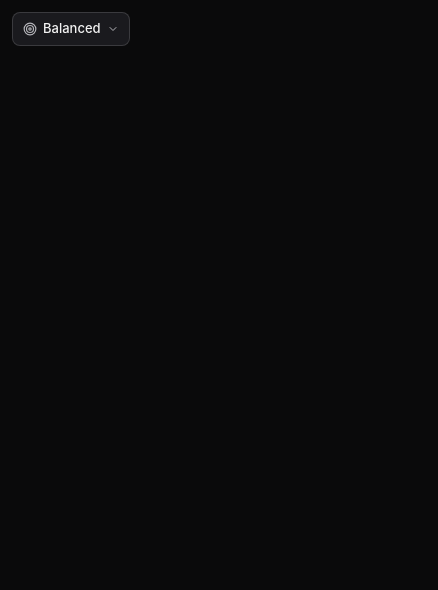
Test case: GoalPicker › keeps the pick drawn while it applies, then follows the session
This screenshot has width=438, height=590.
Later steps or results of the test are not shown.
Step 1. Click the button with aria-label "Orchestrator goal" → (71,29), box [12,12,130,46]
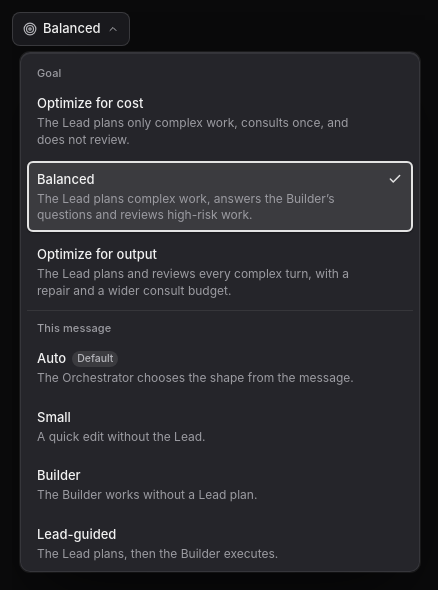
Step 2. Click the option "Small A quick edit without the Lead." → (54,417), box [27,399,413,453]
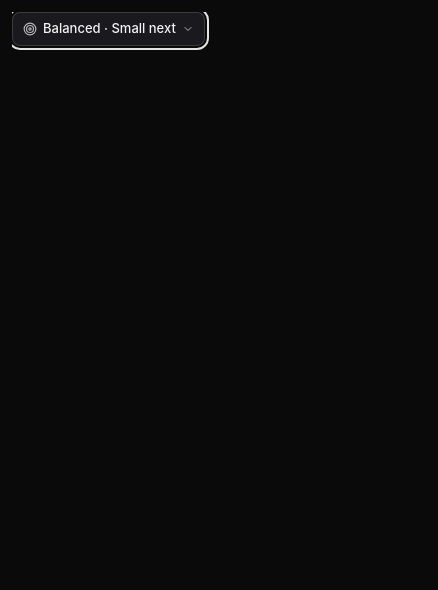
Expected: the button with aria-label "Orchestrator goal" reads "Balanced · Small next", [12,12,205,46]
